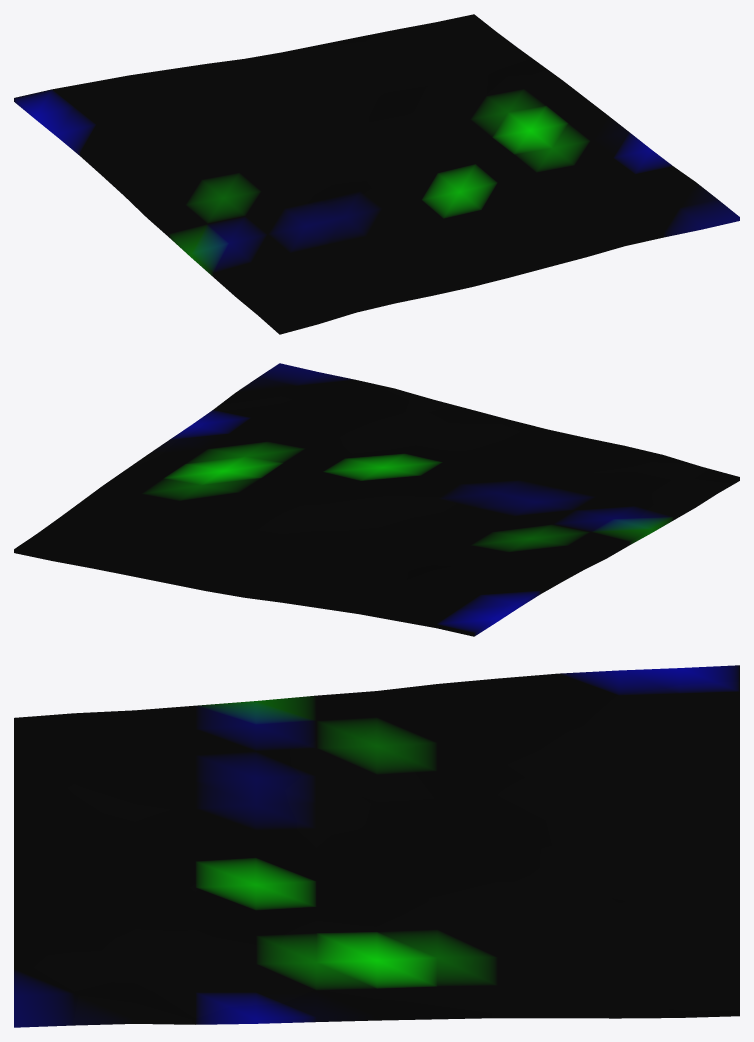
The model's file is coast_5_4.glb.
The picture shows the model from 3 angles, top to bottom: view 1: azimuth 30°, elevation 25°; view 2: azimuth 150°, elevation 25°; view 3: azimuth 270°, elevation 25°; orthographic projection. The views are drawn at different scales.
Parts seen in each view (by area): view 1: terrain; view 2: terrain; view 3: terrain.
Part boxes in pixels (x1,y1,x2,y2): terrain: [14, 14, 739, 334]; terrain: [14, 363, 739, 636]; terrain: [14, 665, 739, 1027].
Size of the model in its own units: 192 by 16.86 by 192.
